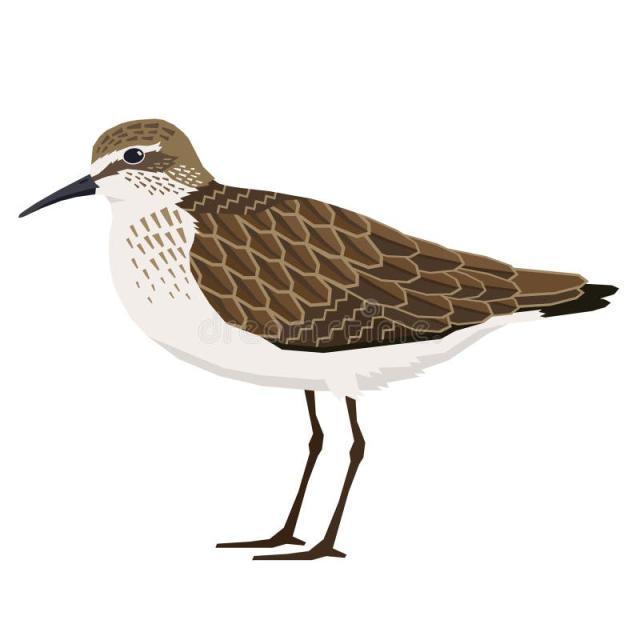Sandpiper: (22, 113, 596, 584)
